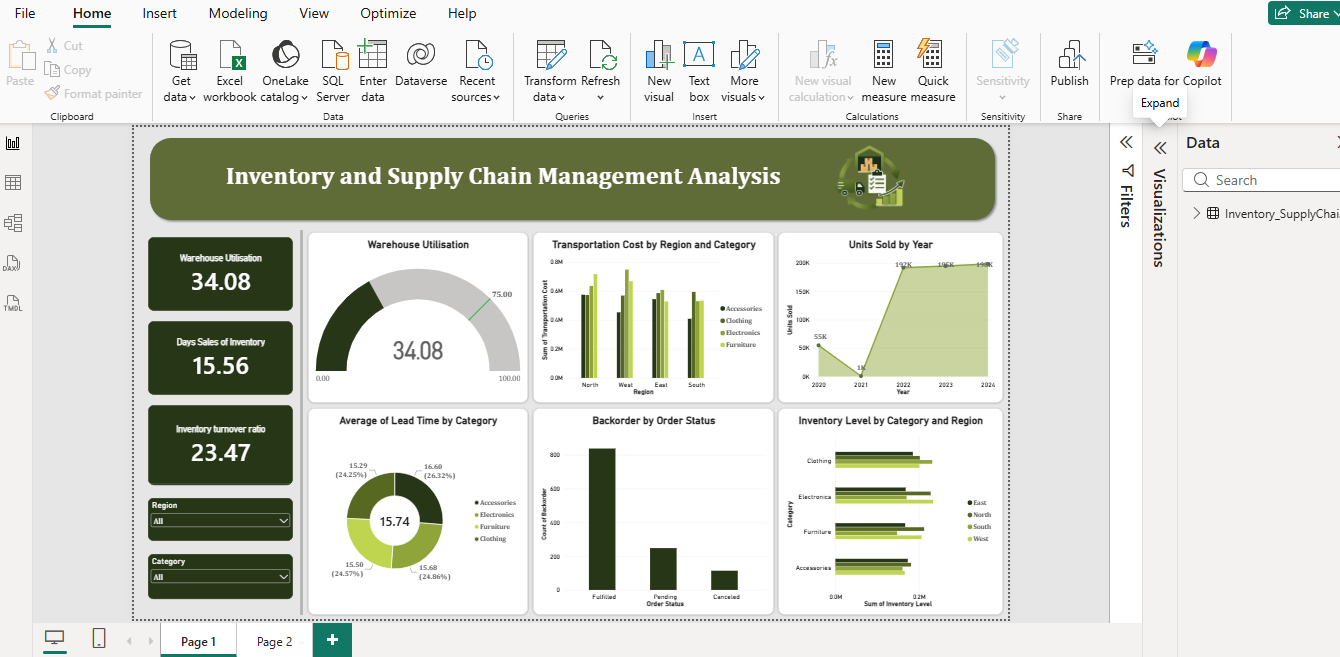

Layout of this report page (visuals, bound fields, positions):
{"tool":"powerbi","page":{"name":"Page 1","canvas":[1920,1080],"ordinal":0},"visuals":[{"type":"group","id":"g1","title":"Group 1","box":[25.6,14.6,1872.4,197.6],"z":0},{"type":"shape","box":[25.6,14.6,1872.4,197.6],"z":0,"group":"g1"},{"type":"textbox","box":[201.2,74.2,1522.8,93.2],"z":1000,"group":"g1"},{"type":"shape","box":[353.4,226.1,28.5,845.1],"z":1000},{"type":"cardVisual","fields":{"Data":["Inventory_SupplyChain_Dataset.Days Sales of Inventory"]},"box":[30.7,425.9,318.3,162.4],"z":2000},{"type":"cardVisual","fields":{"Data":["Inventory_SupplyChain_Dataset.Inventory turnover ratio"]},"box":[30.7,610.2,318.3,175.6],"z":3000},{"type":"cardVisual","fields":{"Data":["Inventory_SupplyChain_Dataset.Warehouse Utilisation"]},"box":[30.7,241.5,318.3,162.4],"z":4000},{"type":"slicer","fields":{"Values":["Inventory_SupplyChain_Dataset.Region"]},"box":[30.7,814.4,318.3,94.4],"z":5000},{"type":"slicer","fields":{"Values":["Inventory_SupplyChain_Dataset.Category"]},"box":[30.7,937.3,318.3,98.8],"z":6000},{"type":"gauge","fields":{"Y":["Inventory_SupplyChain_Dataset.Warehouse Utilisation"]},"box":[382,230.5,482.9,375.4],"z":7000},{"type":"clusteredColumnChart","title":"Transportation Cost by Region and Category","fields":{"Category":["Inventory_SupplyChain_Dataset.Region"],"Series":["Inventory_SupplyChain_Dataset.Category"],"Y":["Sum(Inventory_SupplyChain_Dataset.Transportation Cost)"]},"box":[875.9,230.5,529,375.4],"z":8000},{"type":"lineChart","fields":{"Category":["Inventory_SupplyChain_Dataset.Date.Variation.Date Hierarchy.Year"],"Y":["Sum(Inventory_SupplyChain_Dataset.Units Sold)"]},"box":[1413.7,230.5,493.9,375.4],"z":9000},{"type":"donutChart","fields":{"Category":["Inventory_SupplyChain_Dataset.Category"],"Y":["Avg(Inventory_SupplyChain_Dataset.Lead Time)"]},"box":[382,616.8,482.9,454.4],"z":10000},{"type":"clusteredColumnChart","title":"Backorder by Order Status","fields":{"Category":["Inventory_SupplyChain_Dataset.Order Status"],"Y":["CountNonNull(Inventory_SupplyChain_Dataset.Backorder)"]},"box":[875.9,616.8,529,454.4],"z":11000},{"type":"clusteredBarChart","title":"Inventory Level by Category and Region","fields":{"Category":["Inventory_SupplyChain_Dataset.Category"],"Series":["Inventory_SupplyChain_Dataset.Region"],"Y":["Sum(Inventory_SupplyChain_Dataset.Inventory Level)"]},"box":[1413.7,616.8,493.9,454.4],"z":12000},{"type":"image","box":[1523.4,0,182.2,226.1],"z":13000}]}

Visuals, with their boxes on the page's 1920x1080 design canvas (x1, y1, x2, y2). These are canvas units, not pixel positions in the 1340x657 screenshot, which may show the page scaled, cropped or inside an application window:
"Group 1" group: [x1=26, y1=15, x2=1898, y2=212]
shape: [x1=26, y1=15, x2=1898, y2=212]
textbox: [x1=201, y1=74, x2=1724, y2=167]
shape: [x1=353, y1=226, x2=382, y2=1071]
cardVisual - Inventory_SupplyChain_Dataset.Days Sales of Inventory: [x1=31, y1=426, x2=349, y2=588]
cardVisual - Inventory_SupplyChain_Dataset.Inventory turnover ratio: [x1=31, y1=610, x2=349, y2=786]
cardVisual - Inventory_SupplyChain_Dataset.Warehouse Utilisation: [x1=31, y1=242, x2=349, y2=404]
slicer - Inventory_SupplyChain_Dataset.Region: [x1=31, y1=814, x2=349, y2=909]
slicer - Inventory_SupplyChain_Dataset.Category: [x1=31, y1=937, x2=349, y2=1036]
gauge - Inventory_SupplyChain_Dataset.Warehouse Utilisation: [x1=382, y1=230, x2=865, y2=606]
"Transportation Cost by Region and Category" clusteredColumnChart: [x1=876, y1=230, x2=1405, y2=606]
lineChart - Inventory_SupplyChain_Dataset.Date.Variation.Date Hierarchy.Year x Sum(Inventory_SupplyChain_Dataset.Units Sold): [x1=1414, y1=230, x2=1908, y2=606]
donutChart - Inventory_SupplyChain_Dataset.Category x Avg(Inventory_SupplyChain_Dataset.Lead Time): [x1=382, y1=617, x2=865, y2=1071]
"Backorder by Order Status" clusteredColumnChart: [x1=876, y1=617, x2=1405, y2=1071]
"Inventory Level by Category and Region" clusteredBarChart: [x1=1414, y1=617, x2=1908, y2=1071]
image: [x1=1523, y1=0, x2=1706, y2=226]
